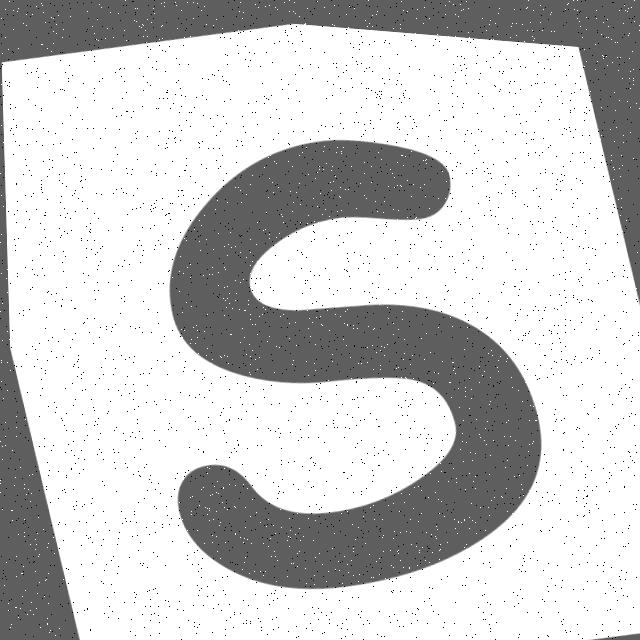S: (167, 133, 538, 583)
